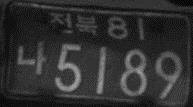1: (93, 45, 108, 96), (135, 16, 146, 42)
5: (53, 43, 81, 92)
8: (120, 48, 148, 96), (106, 14, 129, 42)
9: (154, 49, 183, 98)
나: (15, 38, 47, 76)
전북_O: (47, 10, 98, 40)
